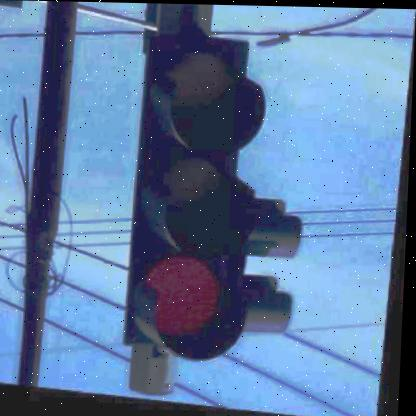Traffic Light -Red-: (122, 36, 273, 366)
